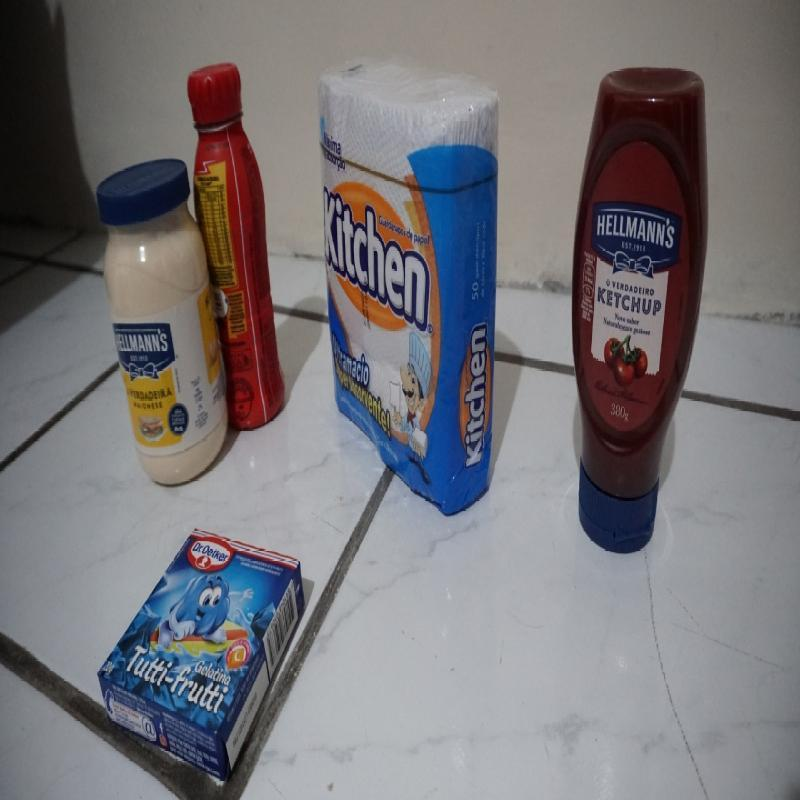Gelatine: (96, 528, 306, 789)
Ketchup: (571, 69, 714, 552), (185, 57, 286, 432)
Mayonnaise: (96, 153, 232, 492)
Napkin: (317, 53, 500, 518)
